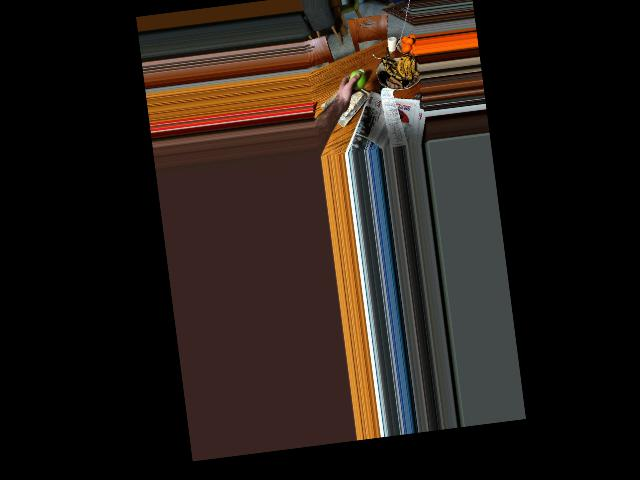apple: (347, 69, 367, 91)
